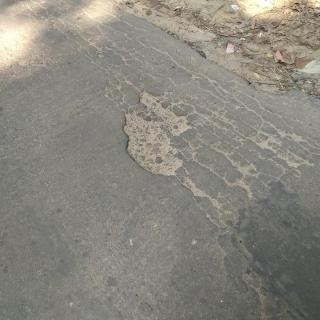pothole: (122, 90, 197, 176)
